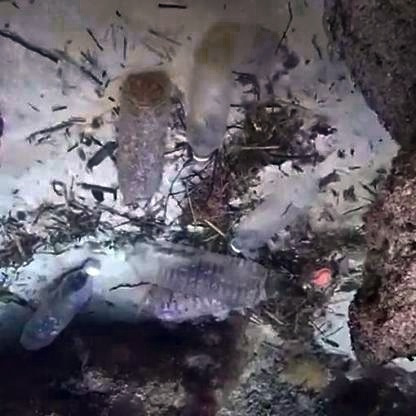pbottle: (123, 237, 295, 326), (110, 65, 182, 216), (190, 13, 242, 164), (234, 167, 326, 252), (23, 259, 98, 359)
